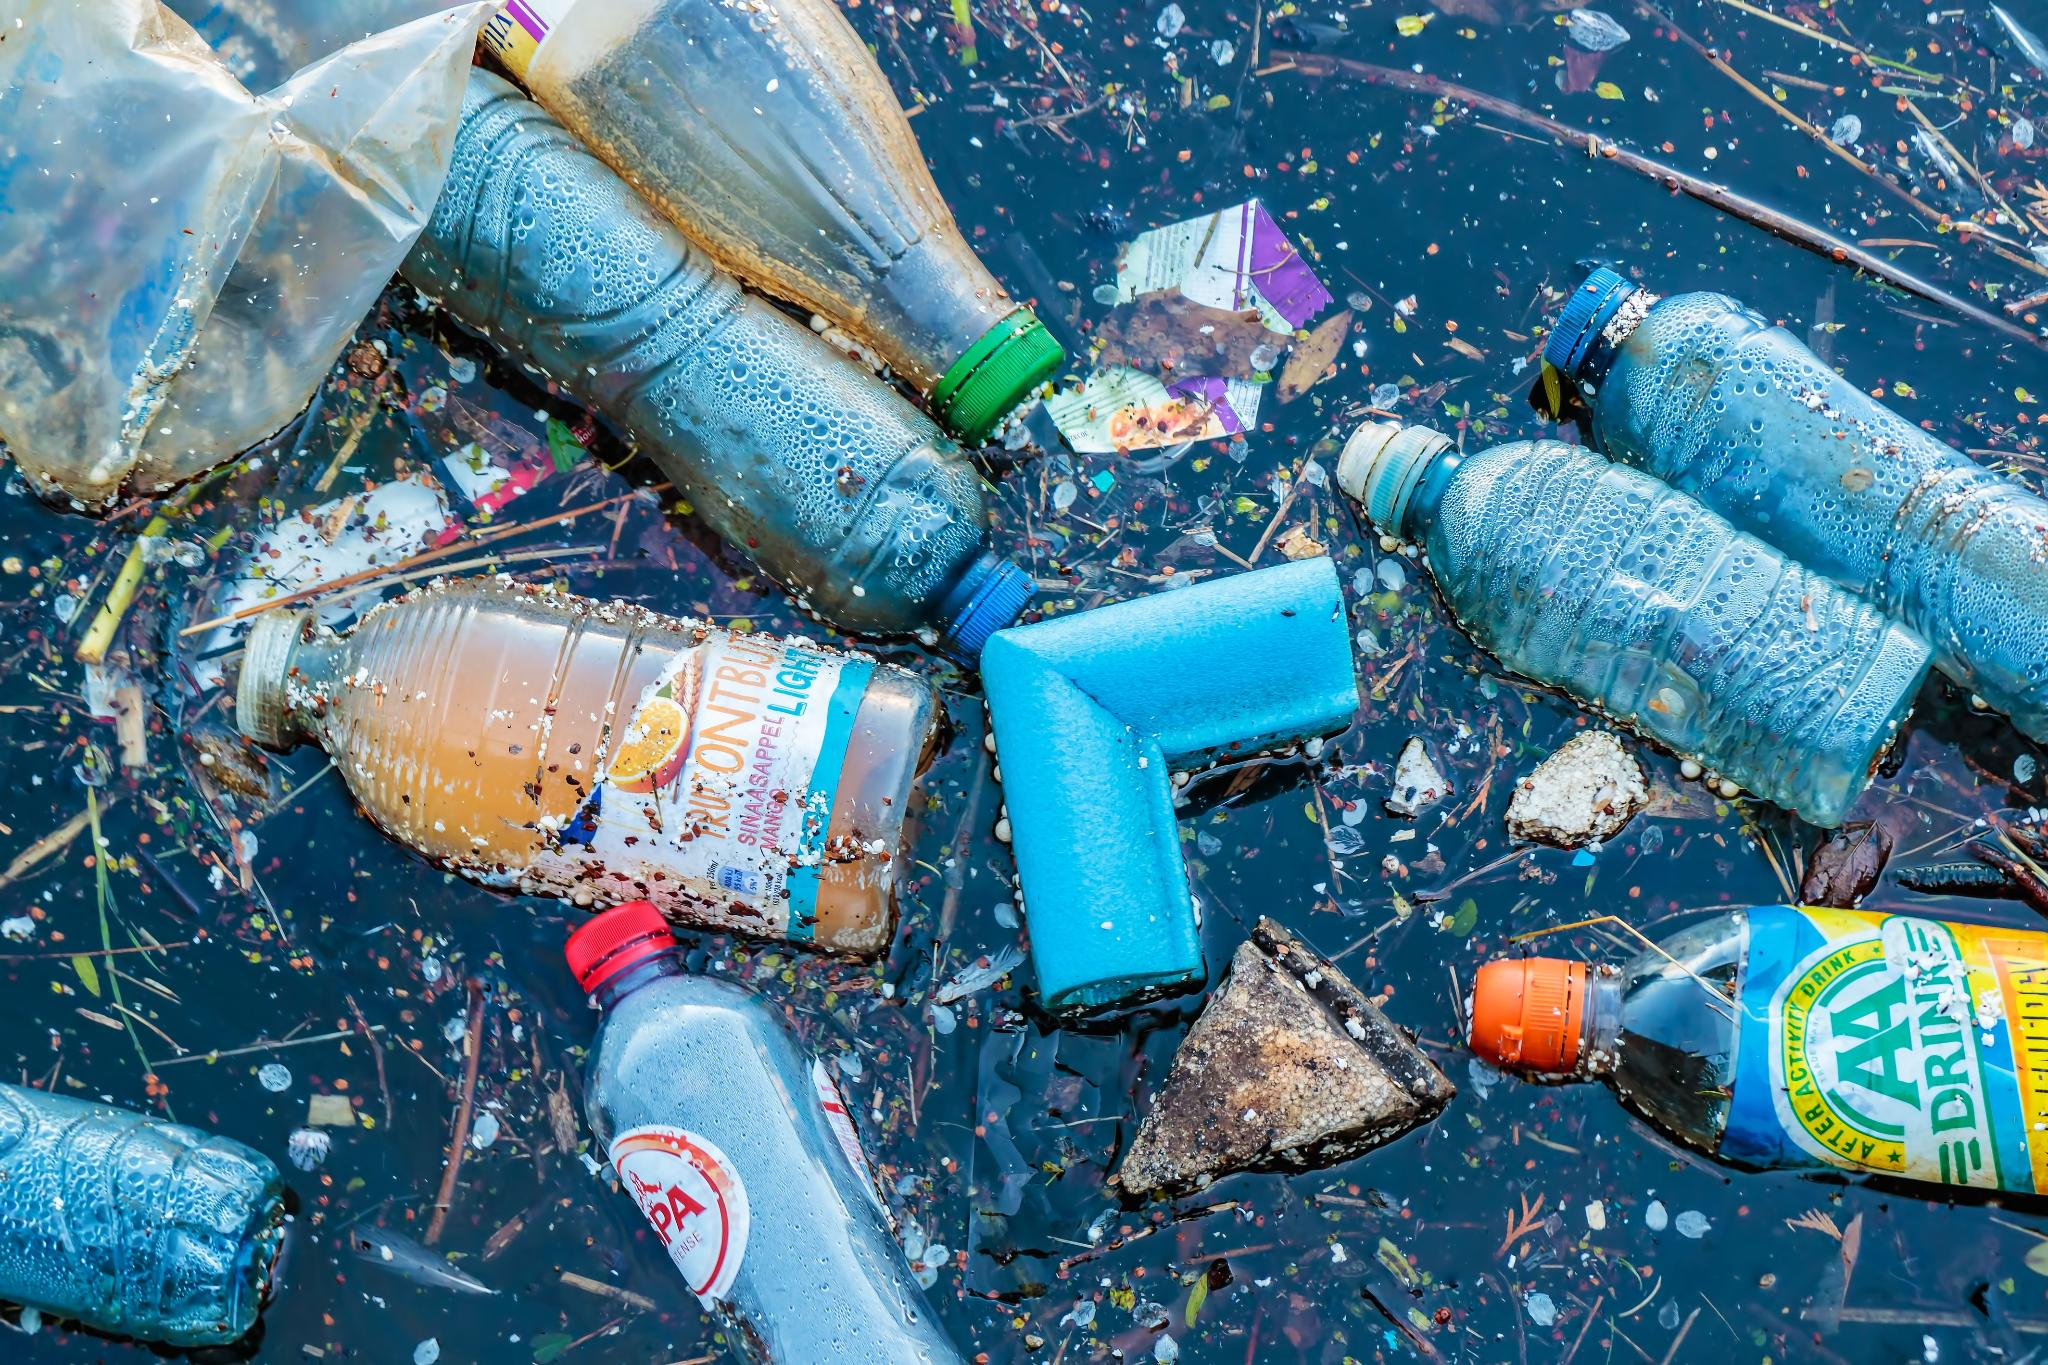Plastic: (283, 46, 1104, 654), (1313, 187, 2048, 800), (198, 515, 984, 969), (1408, 856, 2048, 1298), (518, 890, 1020, 1365), (5, 1024, 364, 1365)
